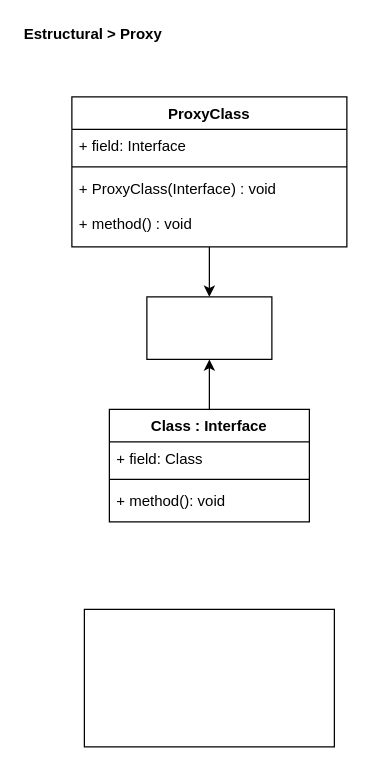
Image size: 369x769. Some labels were removed from this diagram. The centre of each missing label's shape, as x and y in pixels:
var proxy = new ProxyClass ( new Class() ); proxy.DoSomething();: (x=208, y=677)
«interface» Interface: (x=209, y=327)
